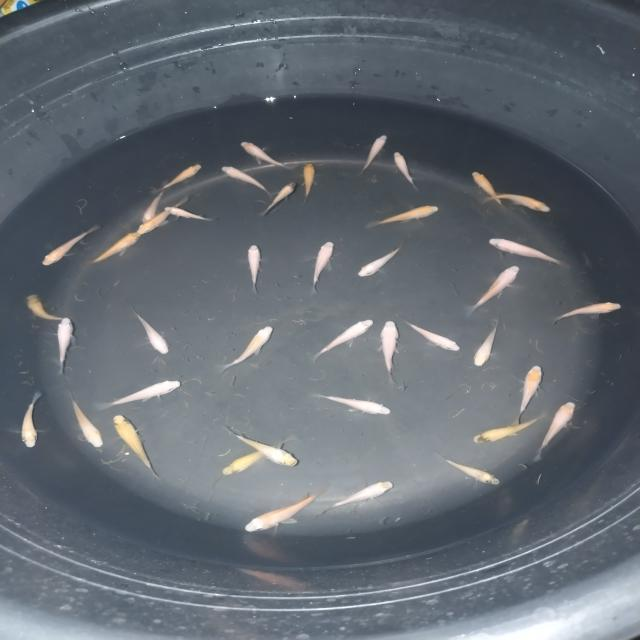nila: (240, 482, 330, 537), (220, 424, 308, 470), (110, 408, 162, 478), (466, 410, 554, 450), (34, 224, 100, 274), (536, 396, 586, 460), (302, 316, 378, 358), (212, 438, 287, 480), (103, 373, 187, 410), (480, 232, 568, 267), (218, 320, 278, 370), (464, 262, 524, 312), (325, 477, 398, 518), (66, 392, 112, 455), (438, 454, 510, 492), (135, 194, 196, 238), (310, 388, 394, 418), (12, 389, 50, 455), (132, 306, 176, 360), (84, 230, 148, 266), (466, 316, 506, 372), (373, 316, 402, 393), (513, 360, 547, 423), (402, 320, 464, 354), (550, 296, 624, 324), (472, 194, 558, 218), (355, 242, 409, 280), (364, 204, 444, 229), (50, 314, 83, 372), (238, 134, 288, 172), (26, 290, 76, 326), (462, 171, 506, 211), (156, 158, 206, 193), (354, 130, 392, 176), (220, 162, 272, 195), (307, 239, 340, 289), (258, 180, 299, 217), (390, 146, 422, 192), (135, 183, 167, 226), (243, 240, 266, 294), (296, 156, 321, 202), (163, 204, 213, 223)
